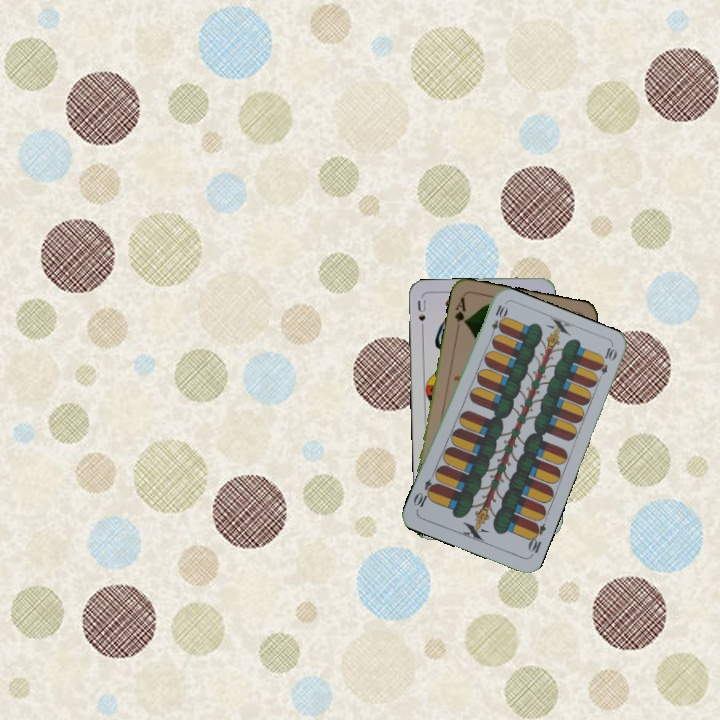E10: (524, 519, 549, 559), (486, 301, 508, 341)
GA: (450, 293, 469, 327)
SU: (414, 296, 428, 335)
